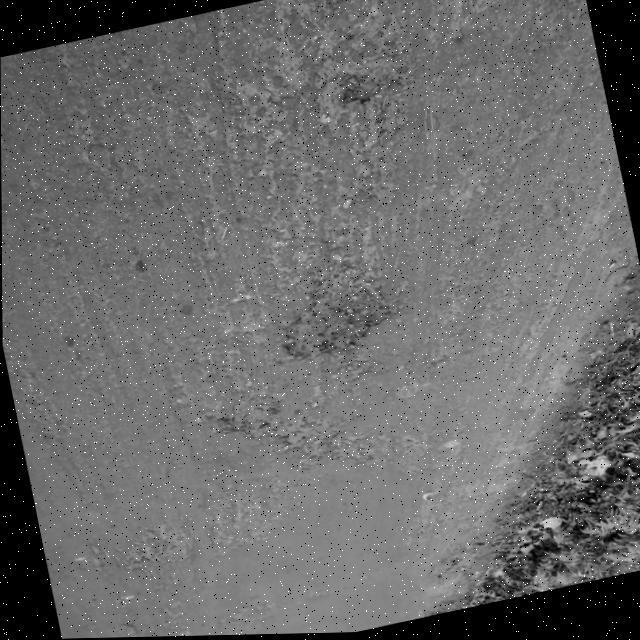pothole: (253, 238, 412, 384)
